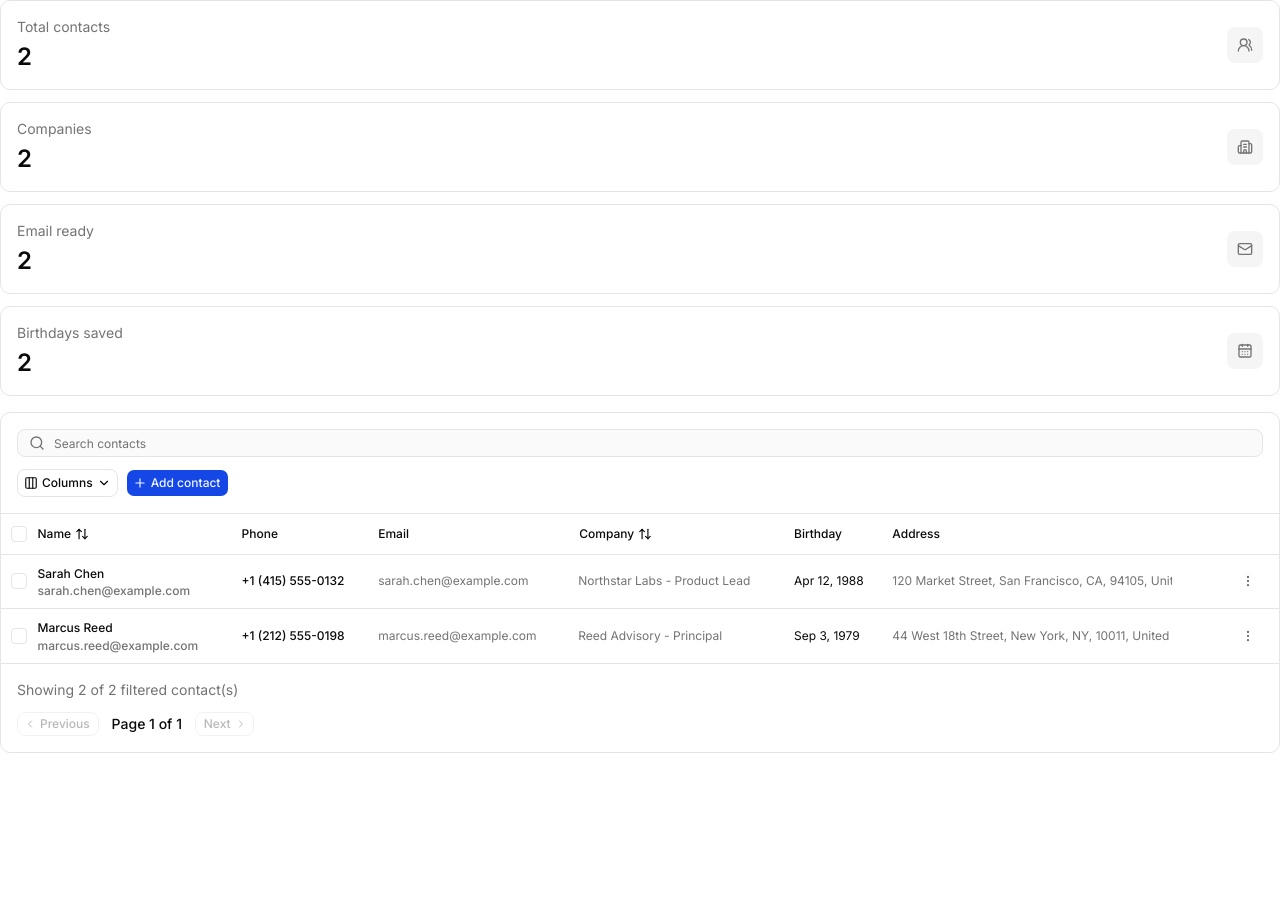
Test: DataTable › reveals bulk email and clear actions after selecting a contact
Click the checkbox named "select contact" in the row of "+1 (415) 555-0132" at [19, 581], box [11,573,27,589]
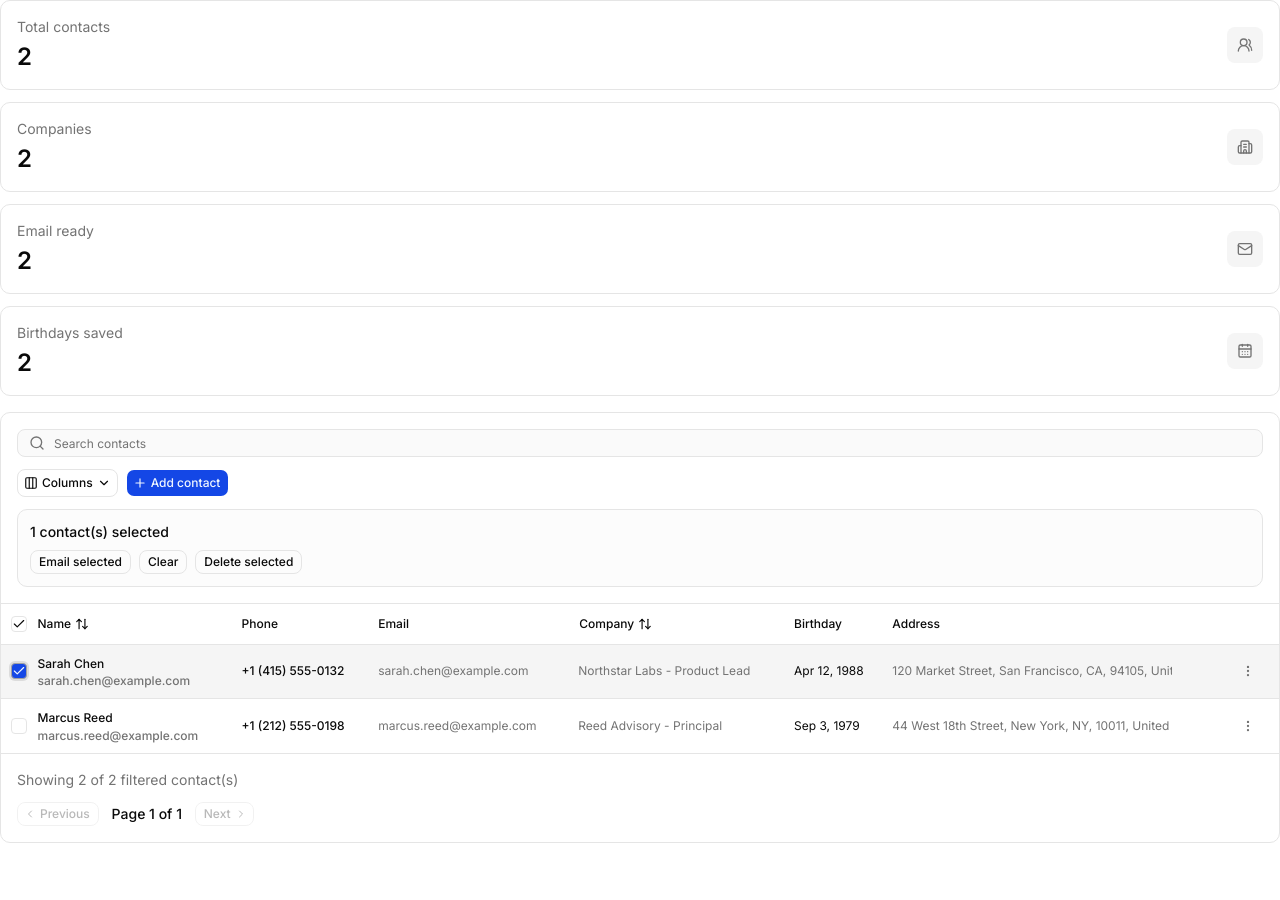
Expected: the text "1 contact(s) selected" is shown, [30,523,169,540]
Expected: the button "Email selected" is shown, [30,550,131,574]
Expected: the button "Clear" is shown, [139,550,187,574]
